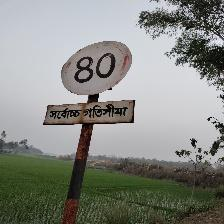Speed-limit: (45, 39, 136, 126)
